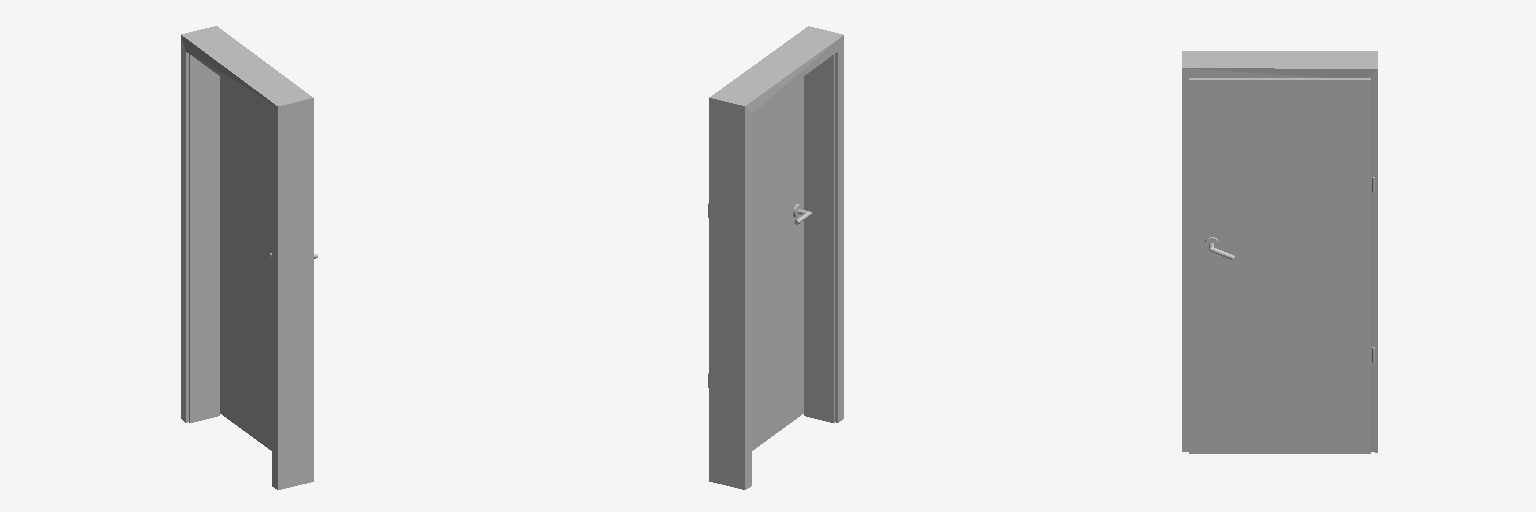
The model's file is door51.obj.
The picture shows the model from 3 angles: view 1: azimuth 30°, elevation 25°; view 2: azimuth 150°, elevation 25°; view 3: azimuth 270°, elevation 25°; orthographic projection.
Parts seen in each view (by area): view 1: Cylinder.005, Cylinder.001; view 2: Cylinder.005, Cylinder.001; view 3: Cylinder.001, Cylinder.005.
Part boxes in pixels (bbox=[...]): Cylinder.005: bbox=[181, 26, 313, 489]; Cylinder.001: bbox=[220, 77, 271, 450]; Cylinder.005: bbox=[708, 26, 843, 489]; Cylinder.001: bbox=[708, 77, 803, 450]; Cylinder.001: bbox=[1189, 78, 1374, 453]; Cylinder.005: bbox=[1182, 51, 1377, 452].
Size of the model in its own units: 0.3039 by 2.05 by 0.95.